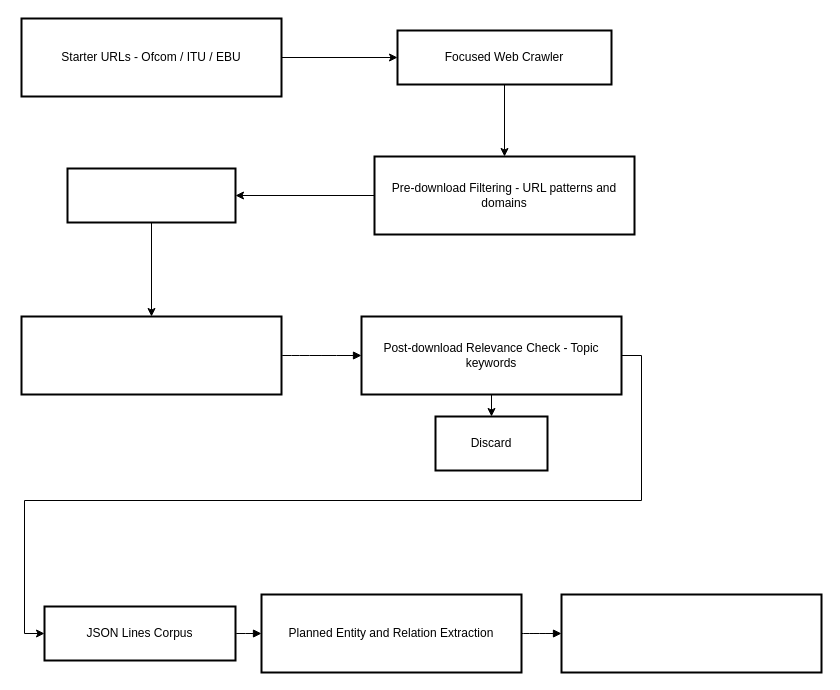
The diagram is 840 pixels wide and 690 high, and some of its shapes have lost their labels. The centre of each missing label's shape, as x and y in pixels:
Knowledge Graph - Memgraph: point (691, 633)
Page Download: point (151, 195)
Text Extraction - HTML to clean text: point (151, 355)
